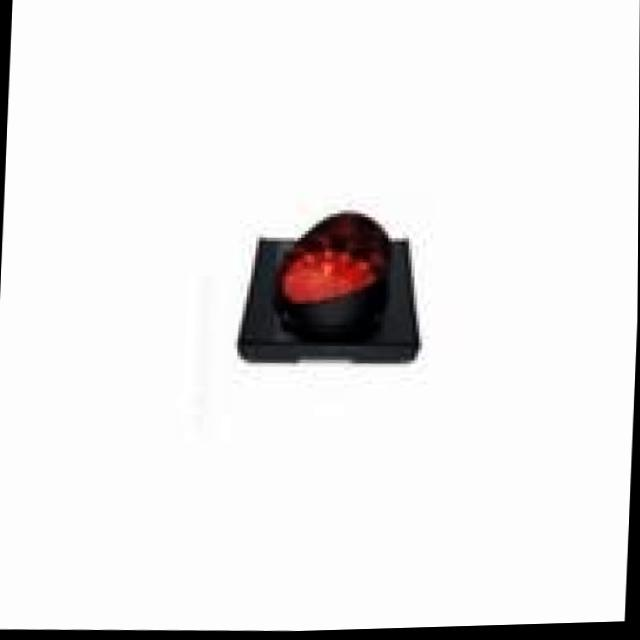red_light: (209, 138, 421, 387)
